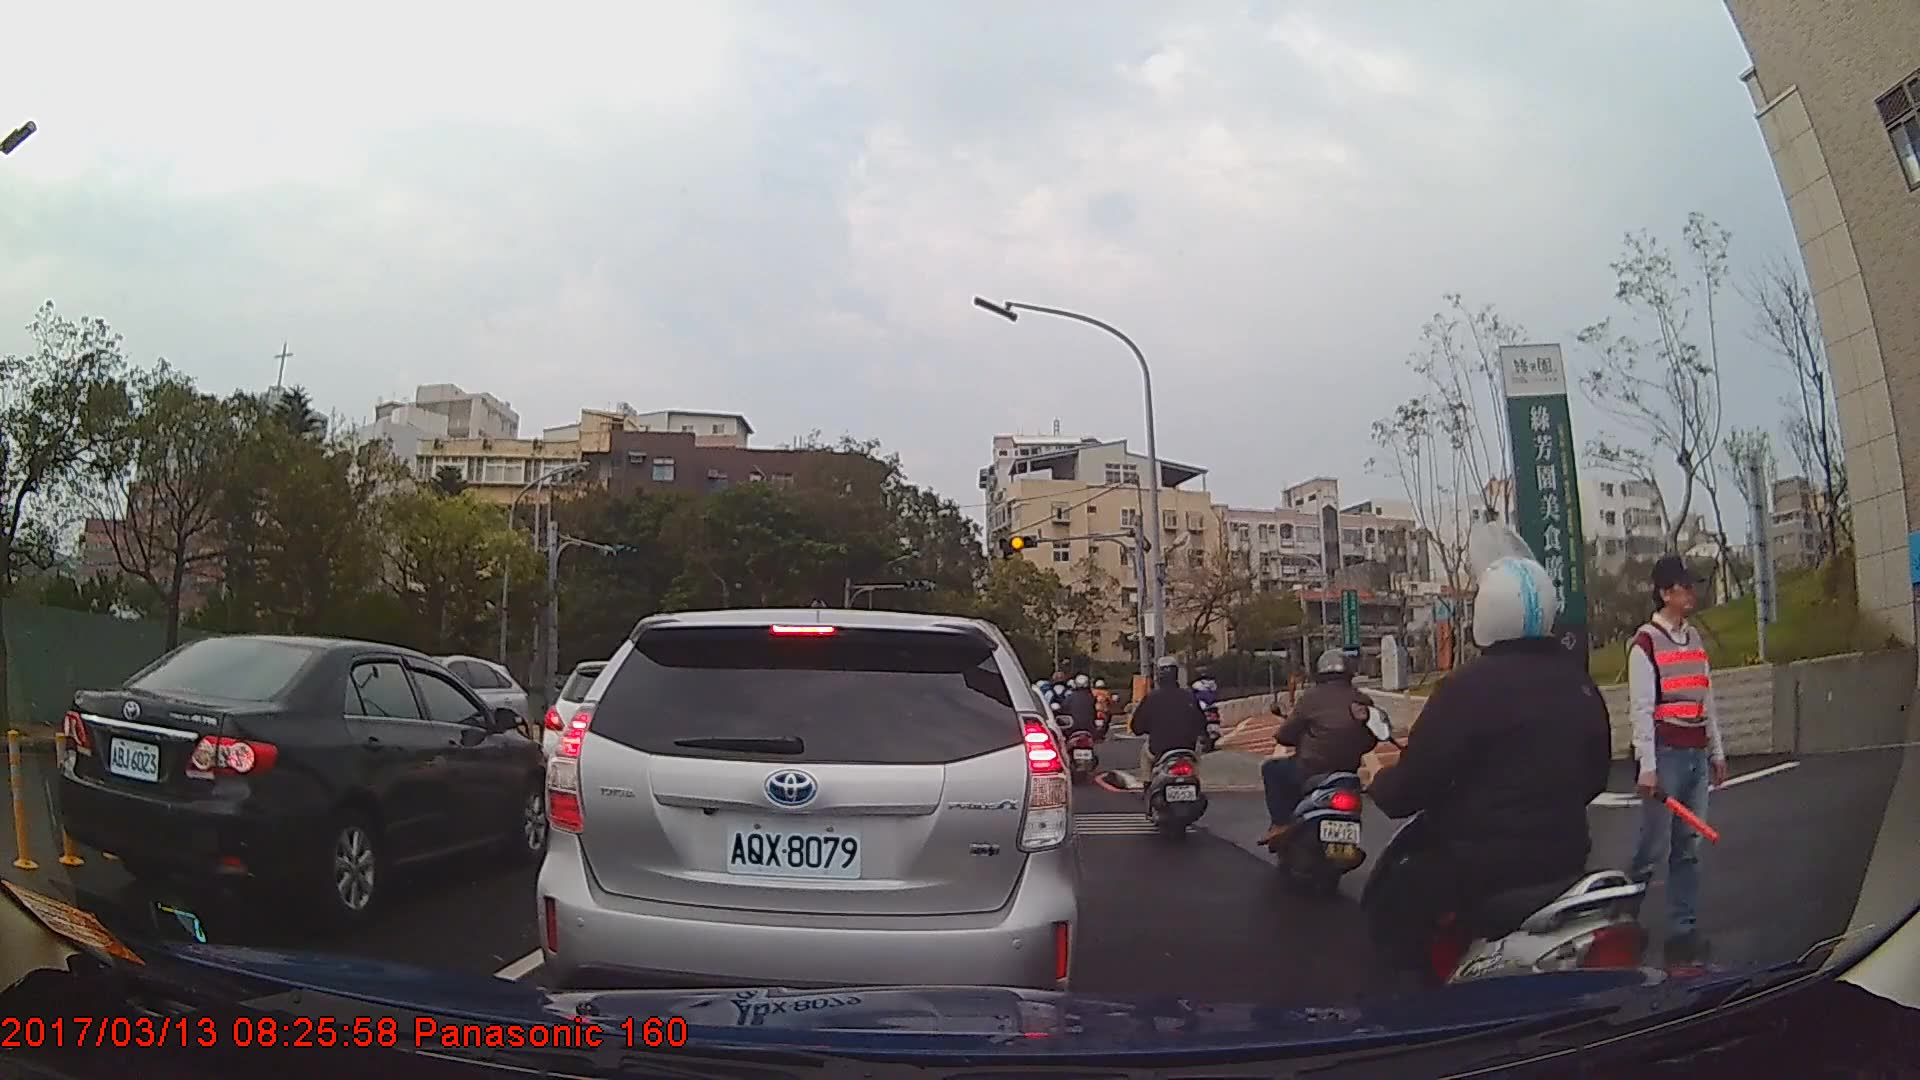pedestrian: (1626, 553, 1725, 954)
rider: (1361, 554, 1653, 1057), (1261, 646, 1382, 900), (1132, 650, 1210, 843), (1064, 675, 1103, 785), (1188, 665, 1223, 753), (1085, 676, 1116, 741)
vehicle: (535, 606, 1078, 1027), (59, 632, 554, 917)
